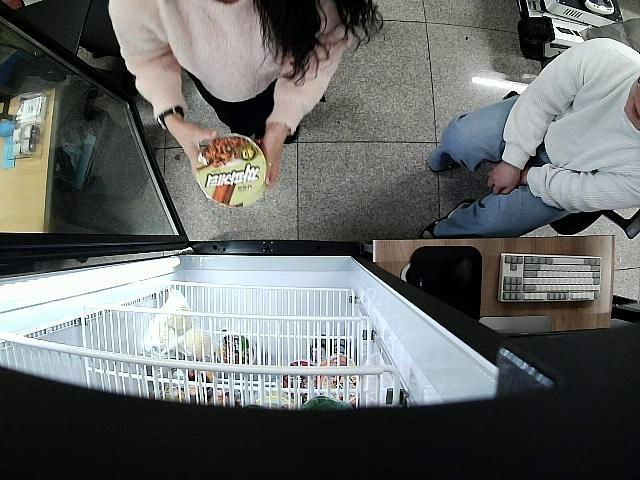03_chapagetti_L: (197, 134, 268, 205)
